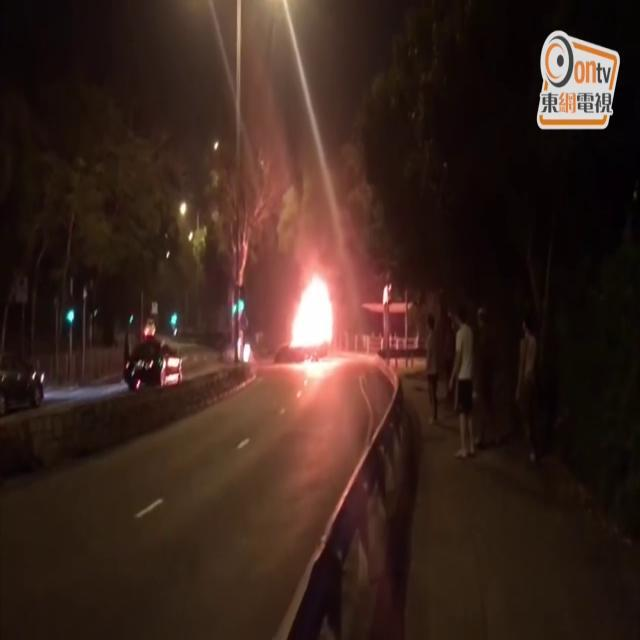Fire: (285, 260, 343, 368)
Smoke: (280, 153, 375, 309)
